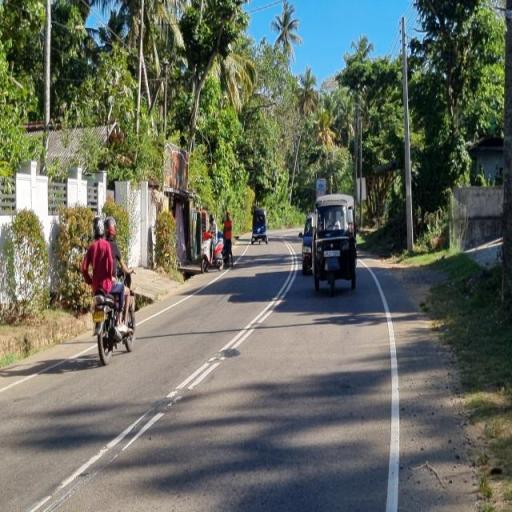double_white_line: (168, 240, 298, 406)
